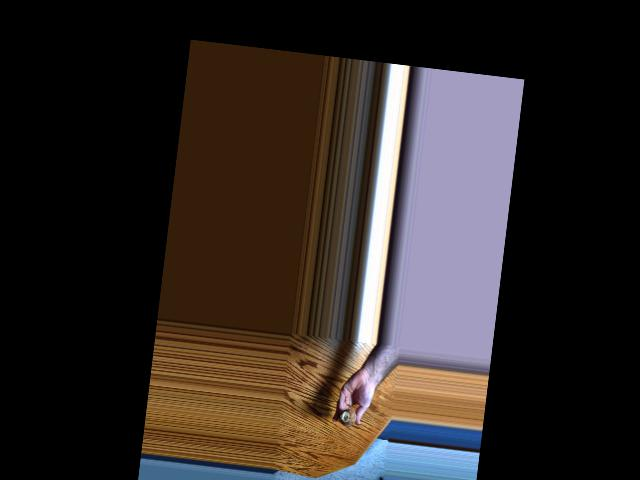sweet_potato: (339, 410, 359, 428)
